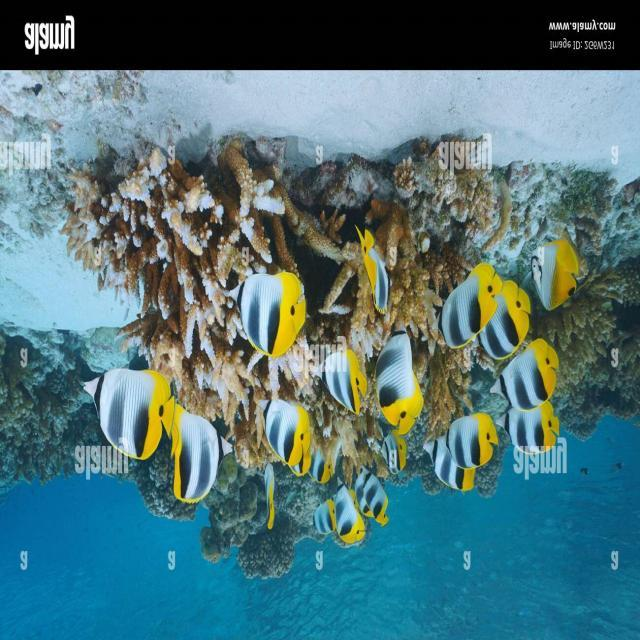ButterflyFish: (74, 354, 165, 466), (152, 403, 235, 509), (236, 267, 310, 363), (368, 320, 431, 428), (342, 224, 402, 326), (438, 242, 495, 345), (493, 334, 568, 412), (524, 226, 592, 308), (475, 281, 541, 357), (252, 384, 316, 456), (491, 399, 569, 456), (324, 480, 379, 558), (437, 403, 499, 468), (314, 342, 371, 410), (422, 444, 488, 498), (246, 454, 282, 542), (357, 464, 400, 528), (298, 490, 333, 548)
